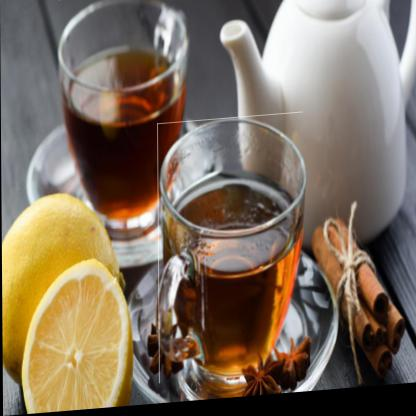non_milk_based_beverage: (157, 117, 305, 387), (58, 0, 191, 235)
